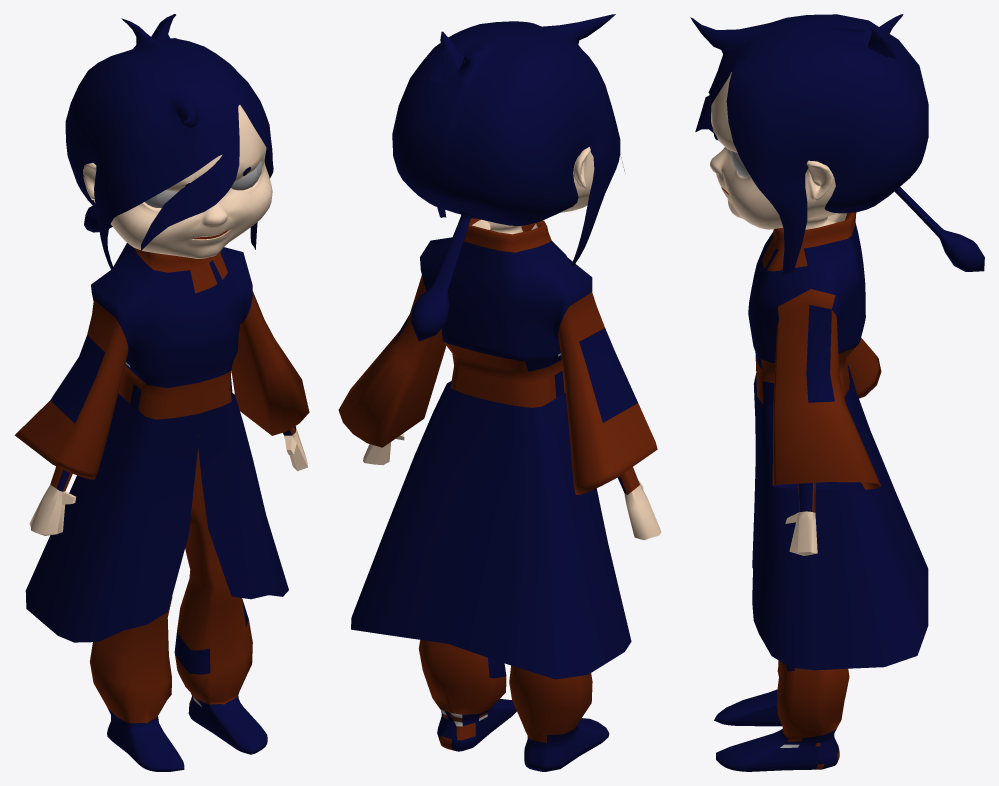
File: wholeChar.fbx
The picture shows the model from 3 angles, left to right: view 1: azimuth 30°, elevation 25°; view 2: azimuth 150°, elevation 25°; view 3: azimuth 270°, elevation 25°; orthographic projection. The views are drawn at different scales.
Parts seen in each view (by area): view 1: head1, coatBottom2, hair; view 2: head1, coatBottom2, hair; view 3: head1, hair, coatBottom2.
Boxes of the visible parts, x1,y1,x2,y2 form: head1: (14, 105, 309, 771); coatBottom2: (25, 393, 288, 642); hair: (65, 14, 273, 281); head1: (338, 147, 661, 771); coatBottom2: (351, 381, 631, 679); hair: (392, 14, 624, 341); head1: (710, 72, 881, 771); hair: (690, 14, 984, 275); coatBottom2: (752, 365, 928, 670).
Bounding box in the file's own units: 12.94 × 30.46 × 11.13.
